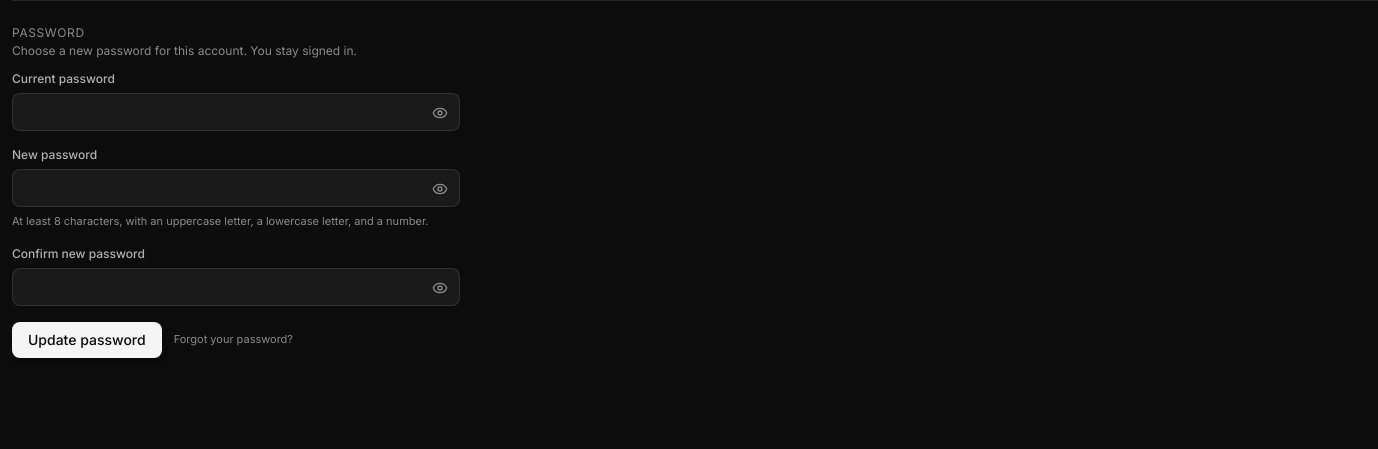
it: password settings › says to sign in again when the session is gone
The image size is (1378, 449).
Type "OldPassword1" into the password field labelled "Current password" at (236,112), box [12, 93, 460, 131]
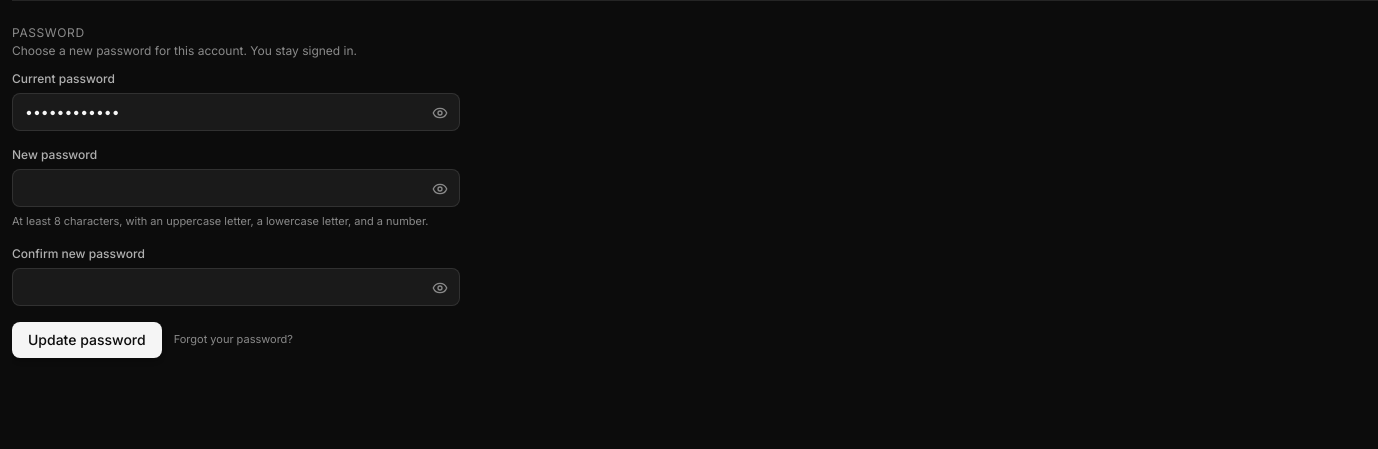
Type "NewPassword2" into the password field labelled "New password" at (236,188), box [12, 169, 460, 207]
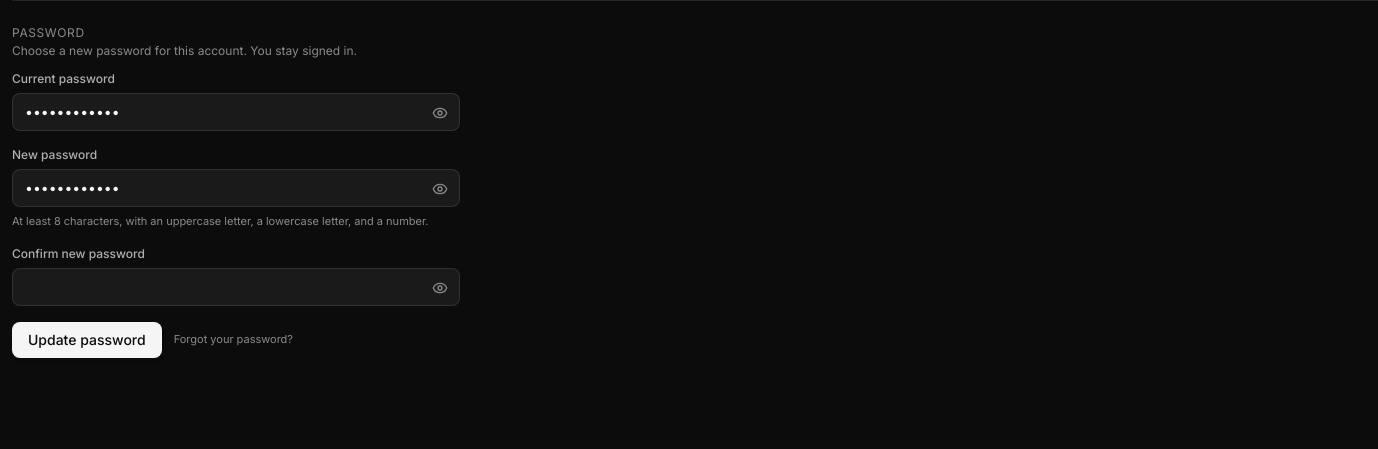
Type "NewPassword2" into the password field labelled "Confirm new password" at (236,286), box [12, 268, 460, 306]
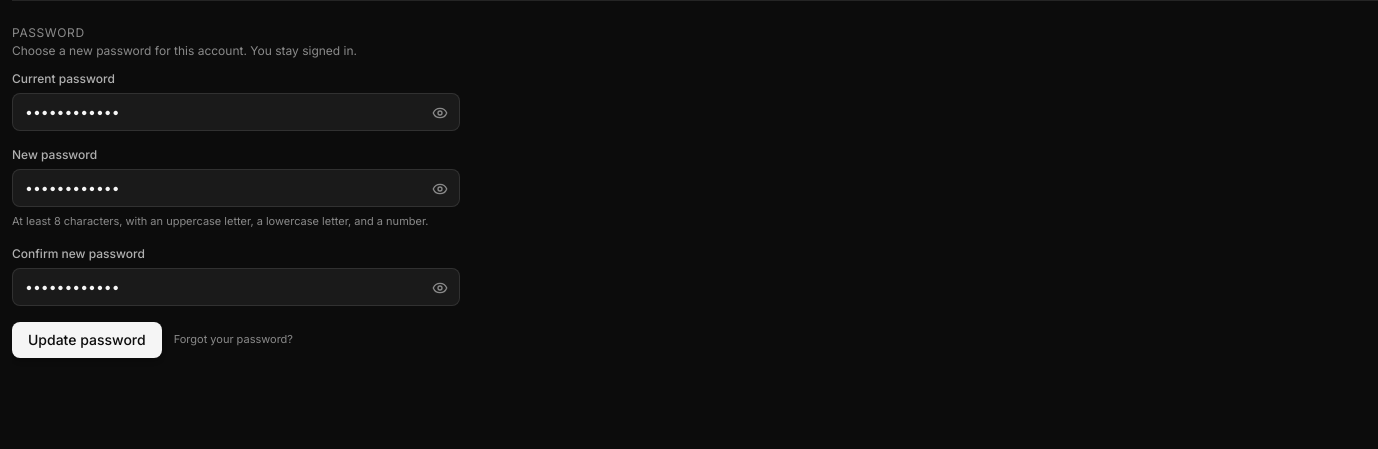
Click the button "Update password" at (87,340), box [12, 322, 162, 358]
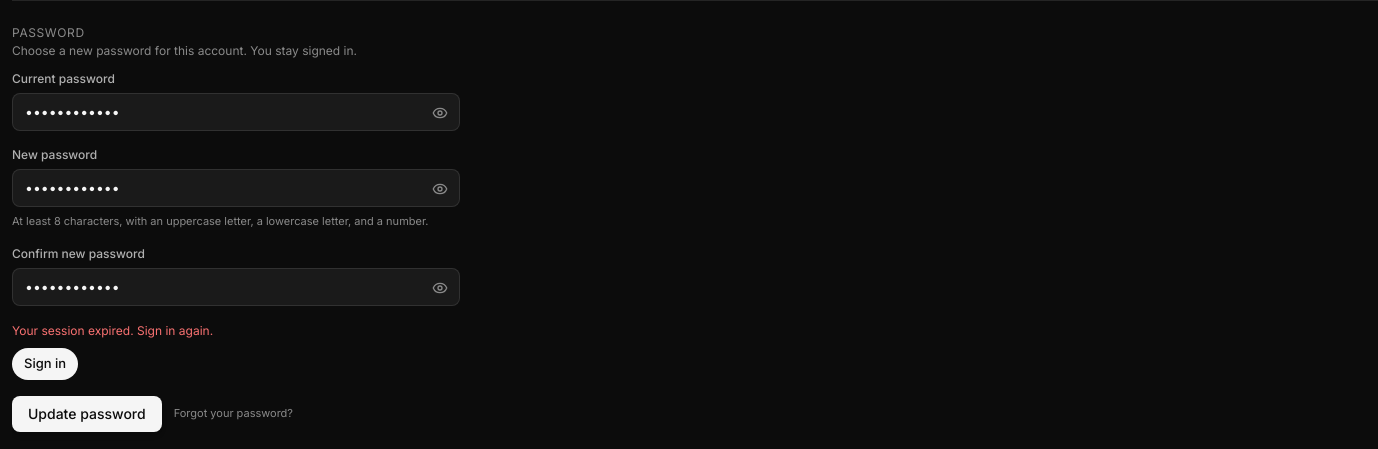
Expected: the message shows "Your session expired. Sign in again.", [12, 322, 213, 338]
